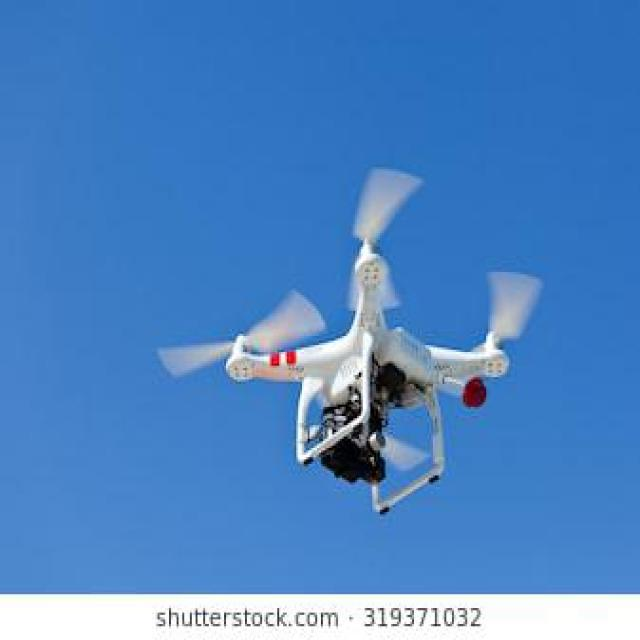drone: (121, 126, 621, 536)
